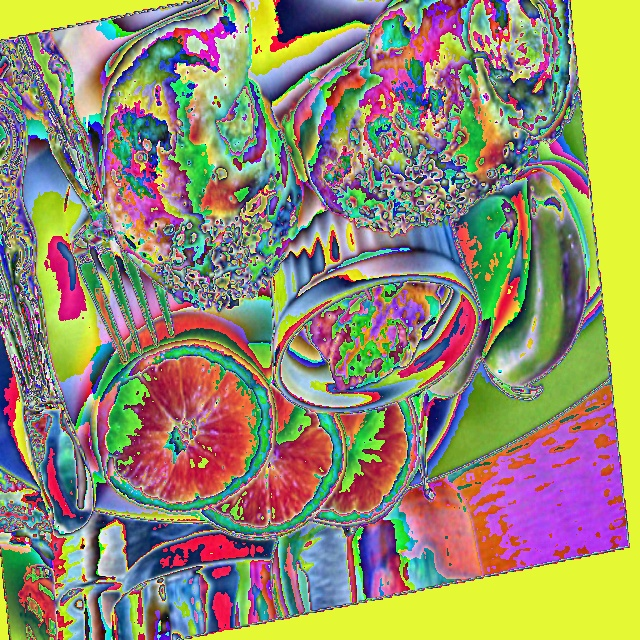background: (88, 0, 589, 541), (141, 115, 442, 395), (0, 97, 58, 639)
